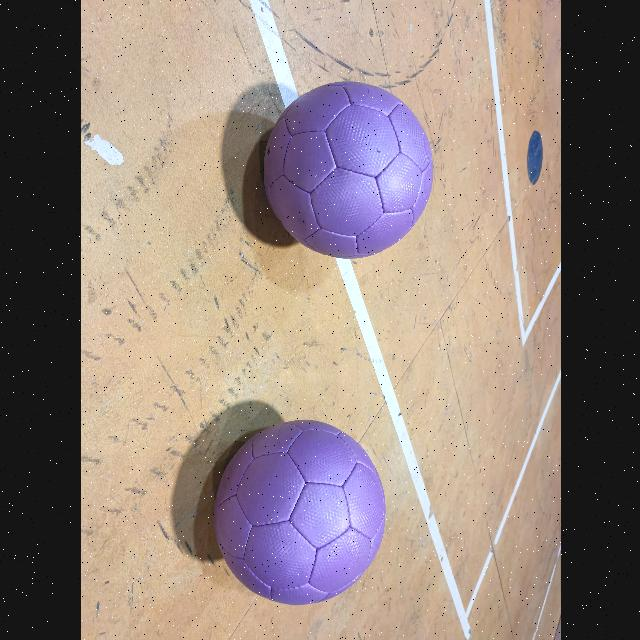P: (213, 420, 384, 604), (264, 82, 432, 258)
